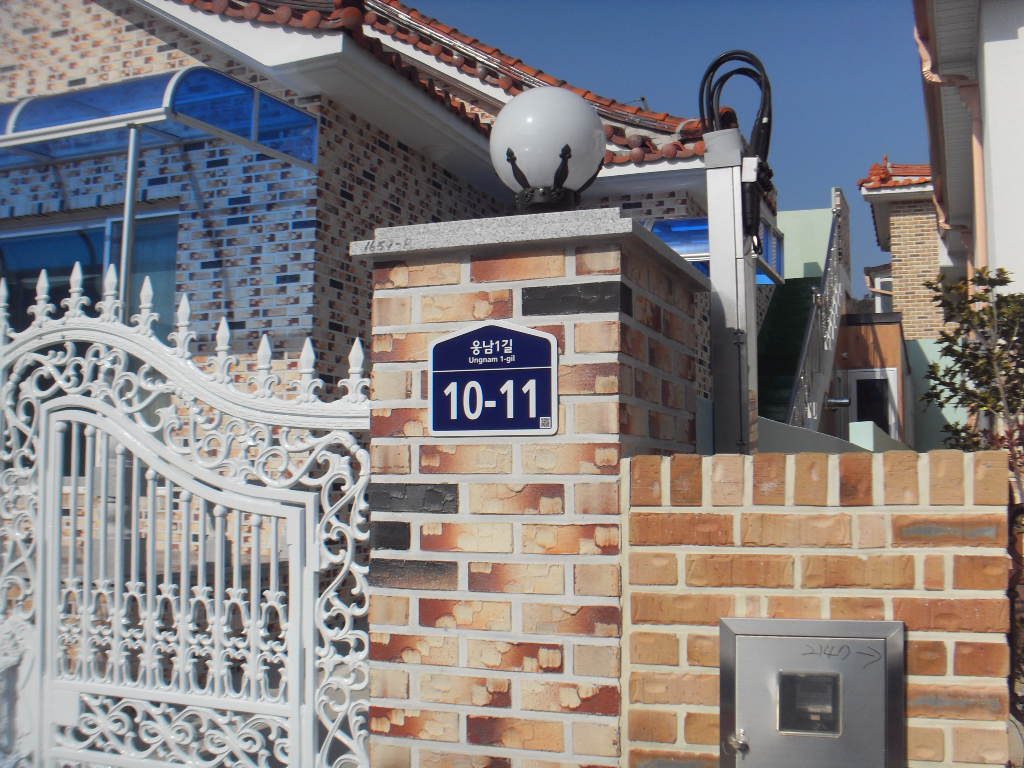building_license_plate1: (428, 319, 558, 437)
